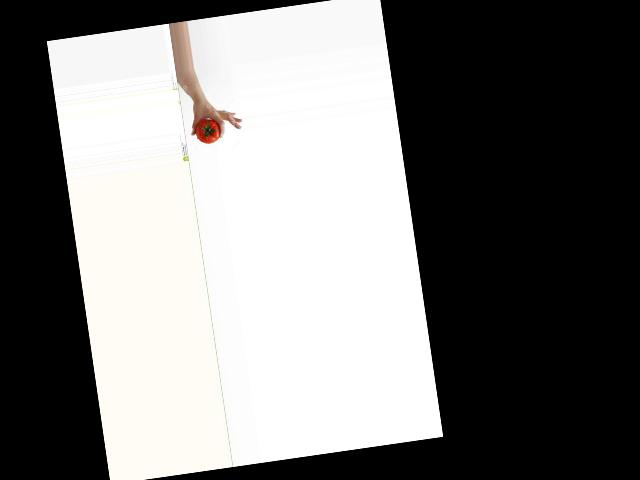tomato: (193, 117, 221, 145)
